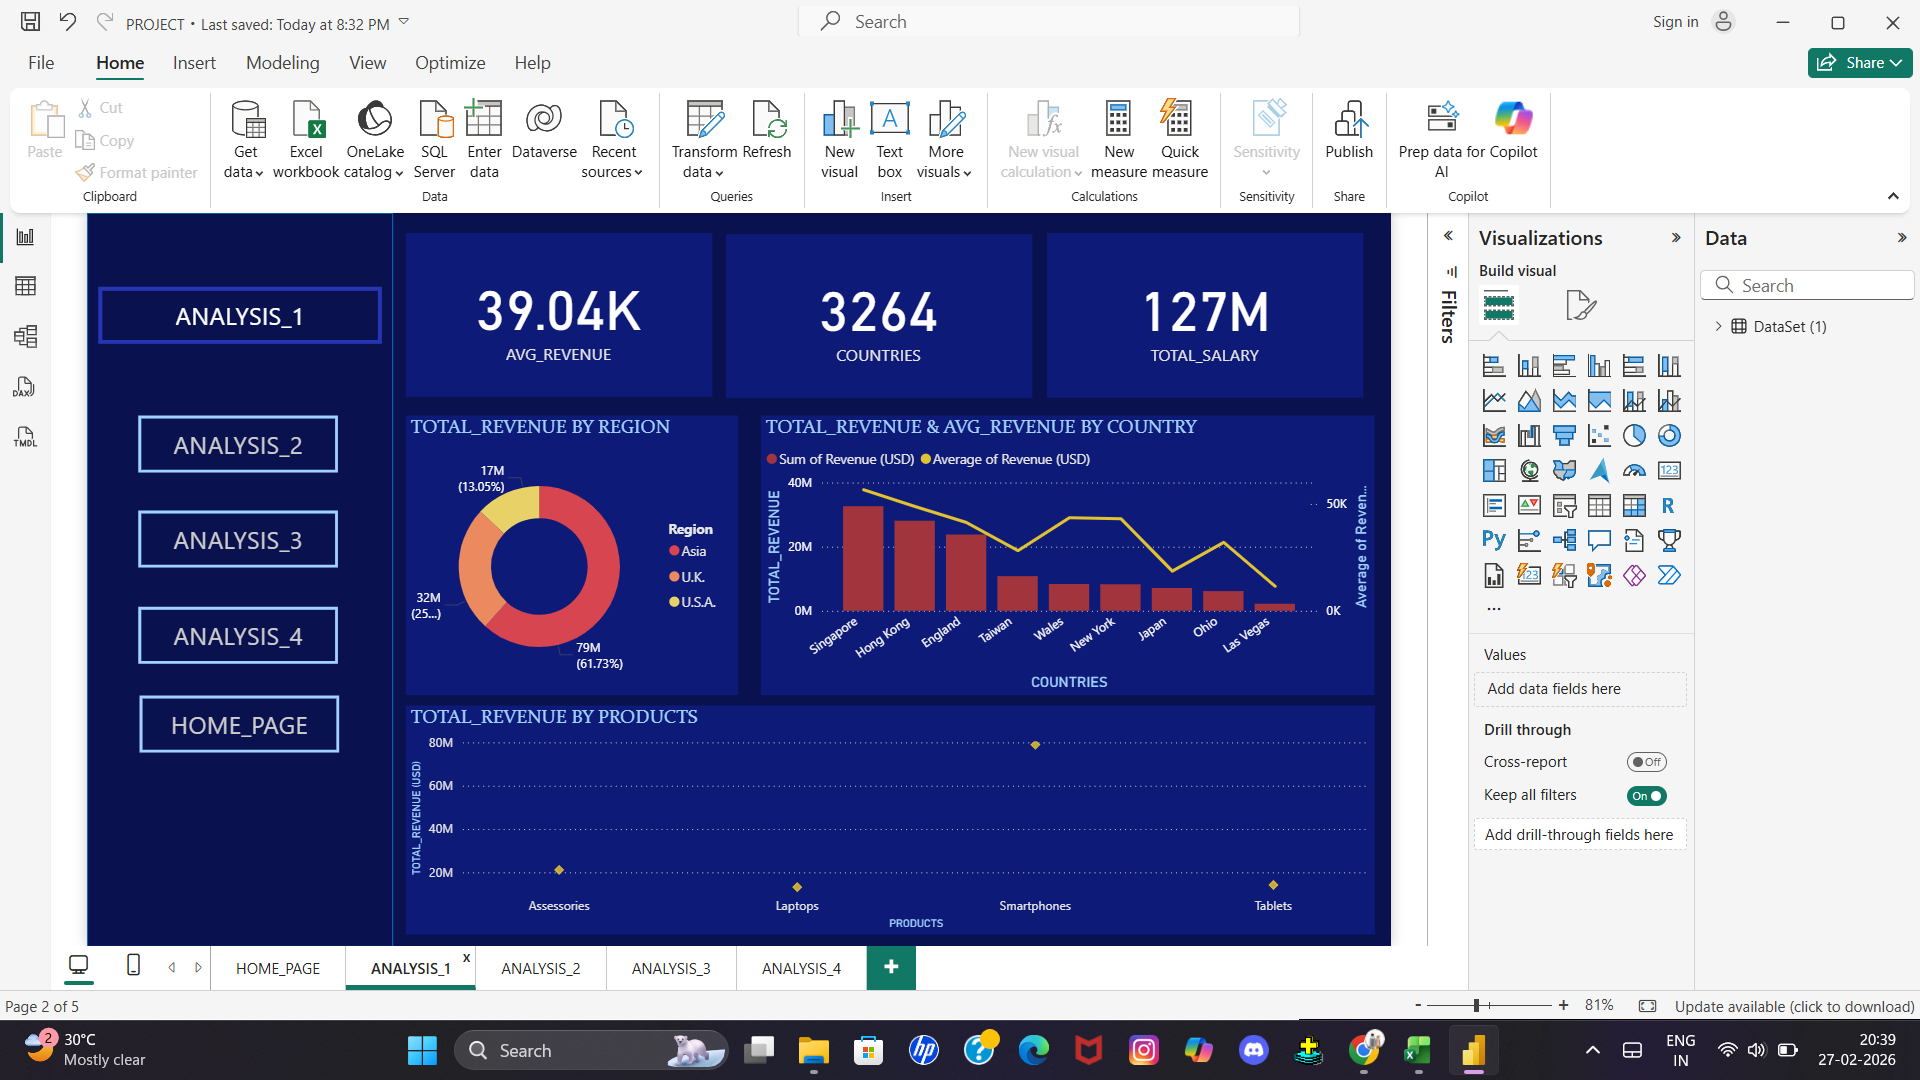

The page's visual inventory and layout, read from the dashboard file:
{"tool":"powerbi","page":{"name":"ANALYSIS_1","canvas":[1280,720],"ordinal":1},"visuals":[{"type":"shape","box":[0,0,300.5,720.4],"z":0},{"type":"actionButton","box":[52.1,473.4,196.2,56.3],"z":1000},{"type":"actionButton","box":[50.8,292.3,196.2,56.3],"z":2000},{"type":"actionButton","box":[50.8,199,196.2,56.3],"z":3000},{"type":"actionButton","box":[50.8,387,196.2,56.3],"z":4000},{"type":"actionButton","box":[11,72.7,278.6,56.3],"z":5000},{"type":"card","fields":{"Values":["Avg(DataSet (1).Revenue (USD))"]},"box":[312.9,19.2,300.5,160.5],"z":6000},{"type":"card","fields":{"Values":["CountNonNull(DataSet (1).Country)"]},"box":[627.1,20.6,300.5,160.5],"z":7000},{"type":"card","fields":{"Values":["Sum(DataSet (1).Revenue (USD))"]},"box":[942.7,19.2,310.1,161.9],"z":8000},{"type":"donutChart","title":"TOTAL_REVENUE BY  REGION","fields":{"Y":["Sum(DataSet (1).Revenue (USD))"],"Series":["DataSet (1).Region"]},"box":[312.9,199,326.6,274.4],"z":9000},{"type":"lineStackedColumnComboChart","title":"TOTAL_REVENUE & AVG_REVENUE BY COUNTRY","fields":{"Category":["DataSet (1).Country"],"Y":["Sum(DataSet (1).Revenue (USD))"],"Y2":["Avg(DataSet (1).Revenue (USD))"]},"box":[661.4,199,602.4,274.4],"z":10000},{"type":"scatterChart","title":"TOTAL_REVENUE BY PRODUCTS","fields":{"Y":["Sum(DataSet (1).Revenue (USD))"],"X":["DataSet (1).Products"]},"box":[312.9,483,950.9,225],"z":11000}]}

Visuals, with their boxes on the page's 1280x720 design canvas (x1, y1, x2, y2). These are canvas units, not pixel positions in the 1920x1080 screenshot, which may show the page scaled, cropped or inside an application window:
shape: 0:0:300:720
actionButton: 52:473:248:530
actionButton: 51:292:247:349
actionButton: 51:199:247:255
actionButton: 51:387:247:443
actionButton: 11:73:290:129
card - Avg(DataSet (1).Revenue (USD)): 313:19:613:180
card - CountNonNull(DataSet (1).Country): 627:21:928:181
card - Sum(DataSet (1).Revenue (USD)): 943:19:1253:181
"TOTAL_REVENUE BY  REGION" donutChart: 313:199:640:473
"TOTAL_REVENUE & AVG_REVENUE BY COUNTRY" lineStackedColumnComboChart: 661:199:1264:473
"TOTAL_REVENUE BY PRODUCTS" scatterChart: 313:483:1264:708
